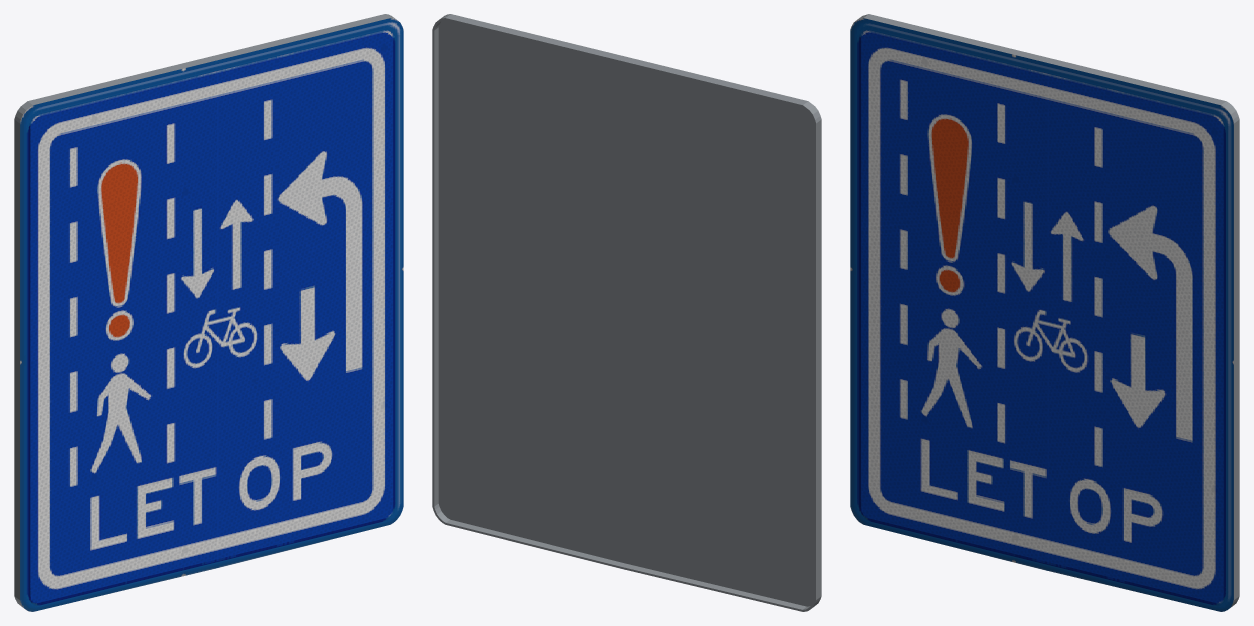
3 views of the same model, side by side, from view 1: azimuth 30°, elevation 25°; view 2: azimuth 150°, elevation 25°; view 3: azimuth 330°, elevation 25° (orthographic).
Visible parts, largest first — view 1: cat_a3465913f2b2d521; view 2: cat_a3465913f2b2d521; view 3: cat_a3465913f2b2d521.
Boxes of the visible parts, x1,y1,x2,y2 form: cat_a3465913f2b2d521: (14,14,403,611); cat_a3465913f2b2d521: (432,14,821,611); cat_a3465913f2b2d521: (850,14,1239,611).
Bounding box in the file's own units: 0.6 × 0.015 × 0.7586.
2 materials, 1 textured.
